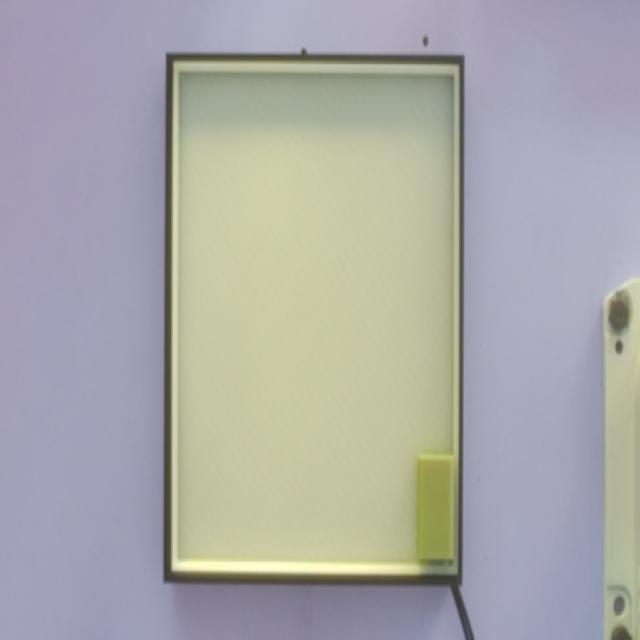bateria: (416, 454, 454, 566)
mesa: (164, 53, 464, 586)
